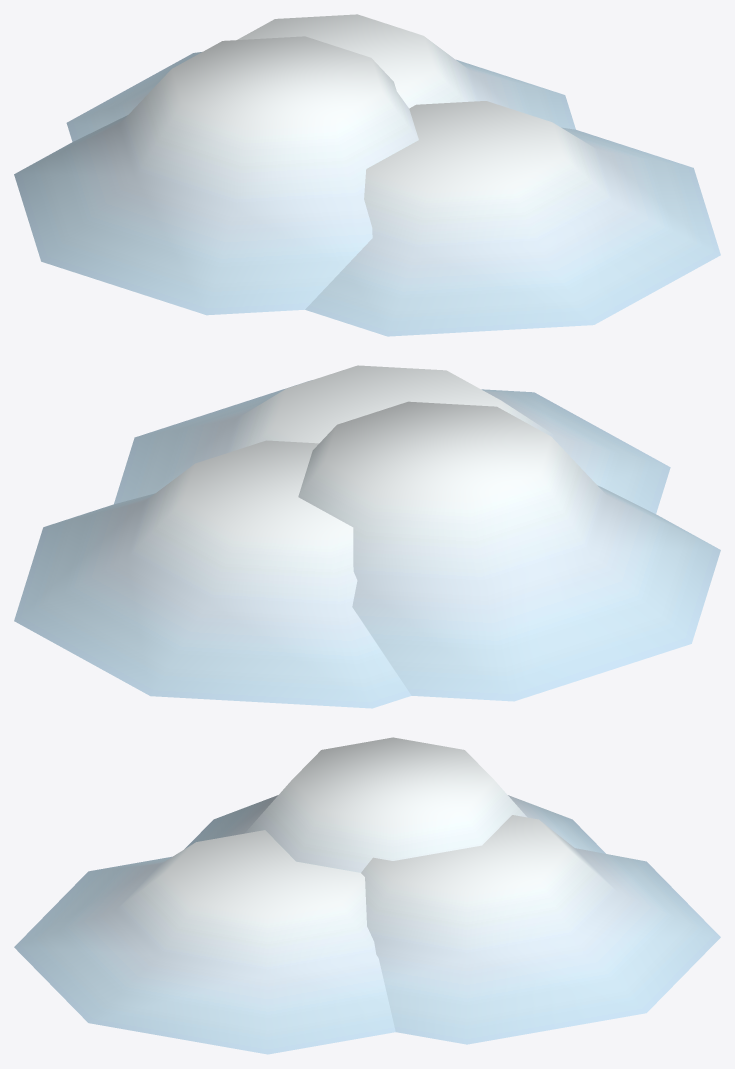
Rendered from k-holiday-snow-pile.glb.
The picture shows the model from 3 angles, top to bottom: view 1: azimuth 30°, elevation 25°; view 2: azimuth 150°, elevation 25°; view 3: azimuth 270°, elevation 25°; orthographic projection. The views are drawn at different scales.
Parts seen in each view (by area): view 1: snow-pile; view 2: snow-pile; view 3: snow-pile.
Part boxes in pixels (x1=…): snow-pile: x1=14, y1=14, x2=720, y2=336; snow-pile: x1=14, y1=365, x2=720, y2=708; snow-pile: x1=14, y1=737, x2=720, y2=1054.
Bounding box in the file's own units: 0.9934 × 0.2 × 1.11.
1 material, 1 textured.
